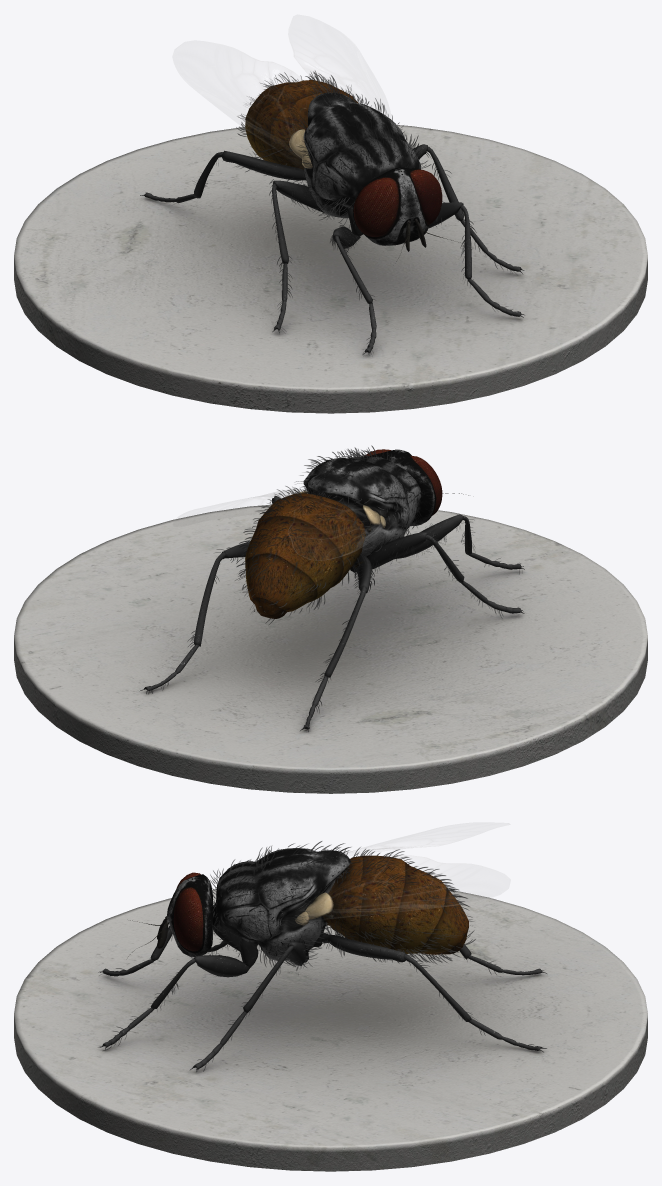
Rendered from housefly.glb.
3 renders of one model, top to bottom at view 1: azimuth 30°, elevation 25°; view 2: azimuth 150°, elevation 25°; view 3: azimuth 270°, elevation 25°, orthographic.
Visible parts, largest first — view 1: Cylinder001, Object008_MultiMat_0_0, Object008_MultiMat_0h_0, Object008_MultiMat_0d_0; view 2: Cylinder001, Object008_MultiMat_0_0, Object008_MultiMat_0h_0; view 3: Cylinder001, Object008_MultiMat_0_0, Object008_MultiMat_0h_0, Object008_MultiMat_0d_0.
Part boxes in pixels (x1,y1,x2,y2): Cylinder001: (14, 125, 647, 413); Object008_MultiMat_0_0: (140, 80, 524, 355); Object008_MultiMat_0h_0: (145, 70, 516, 354); Object008_MultiMat_0d_0: (173, 16, 390, 159); Cylinder001: (14, 504, 647, 793); Object008_MultiMat_0_0: (140, 449, 524, 731); Object008_MultiMat_0h_0: (148, 445, 522, 730); Cylinder001: (14, 889, 647, 1171); Object008_MultiMat_0_0: (100, 848, 546, 1071); Object008_MultiMat_0h_0: (98, 841, 533, 1072); Object008_MultiMat_0d_0: (311, 825, 510, 918).
Bounding box in the file's own units: 1.2 × 0.4055 × 1.2.
Materials: 4 (4 with a texture image).
